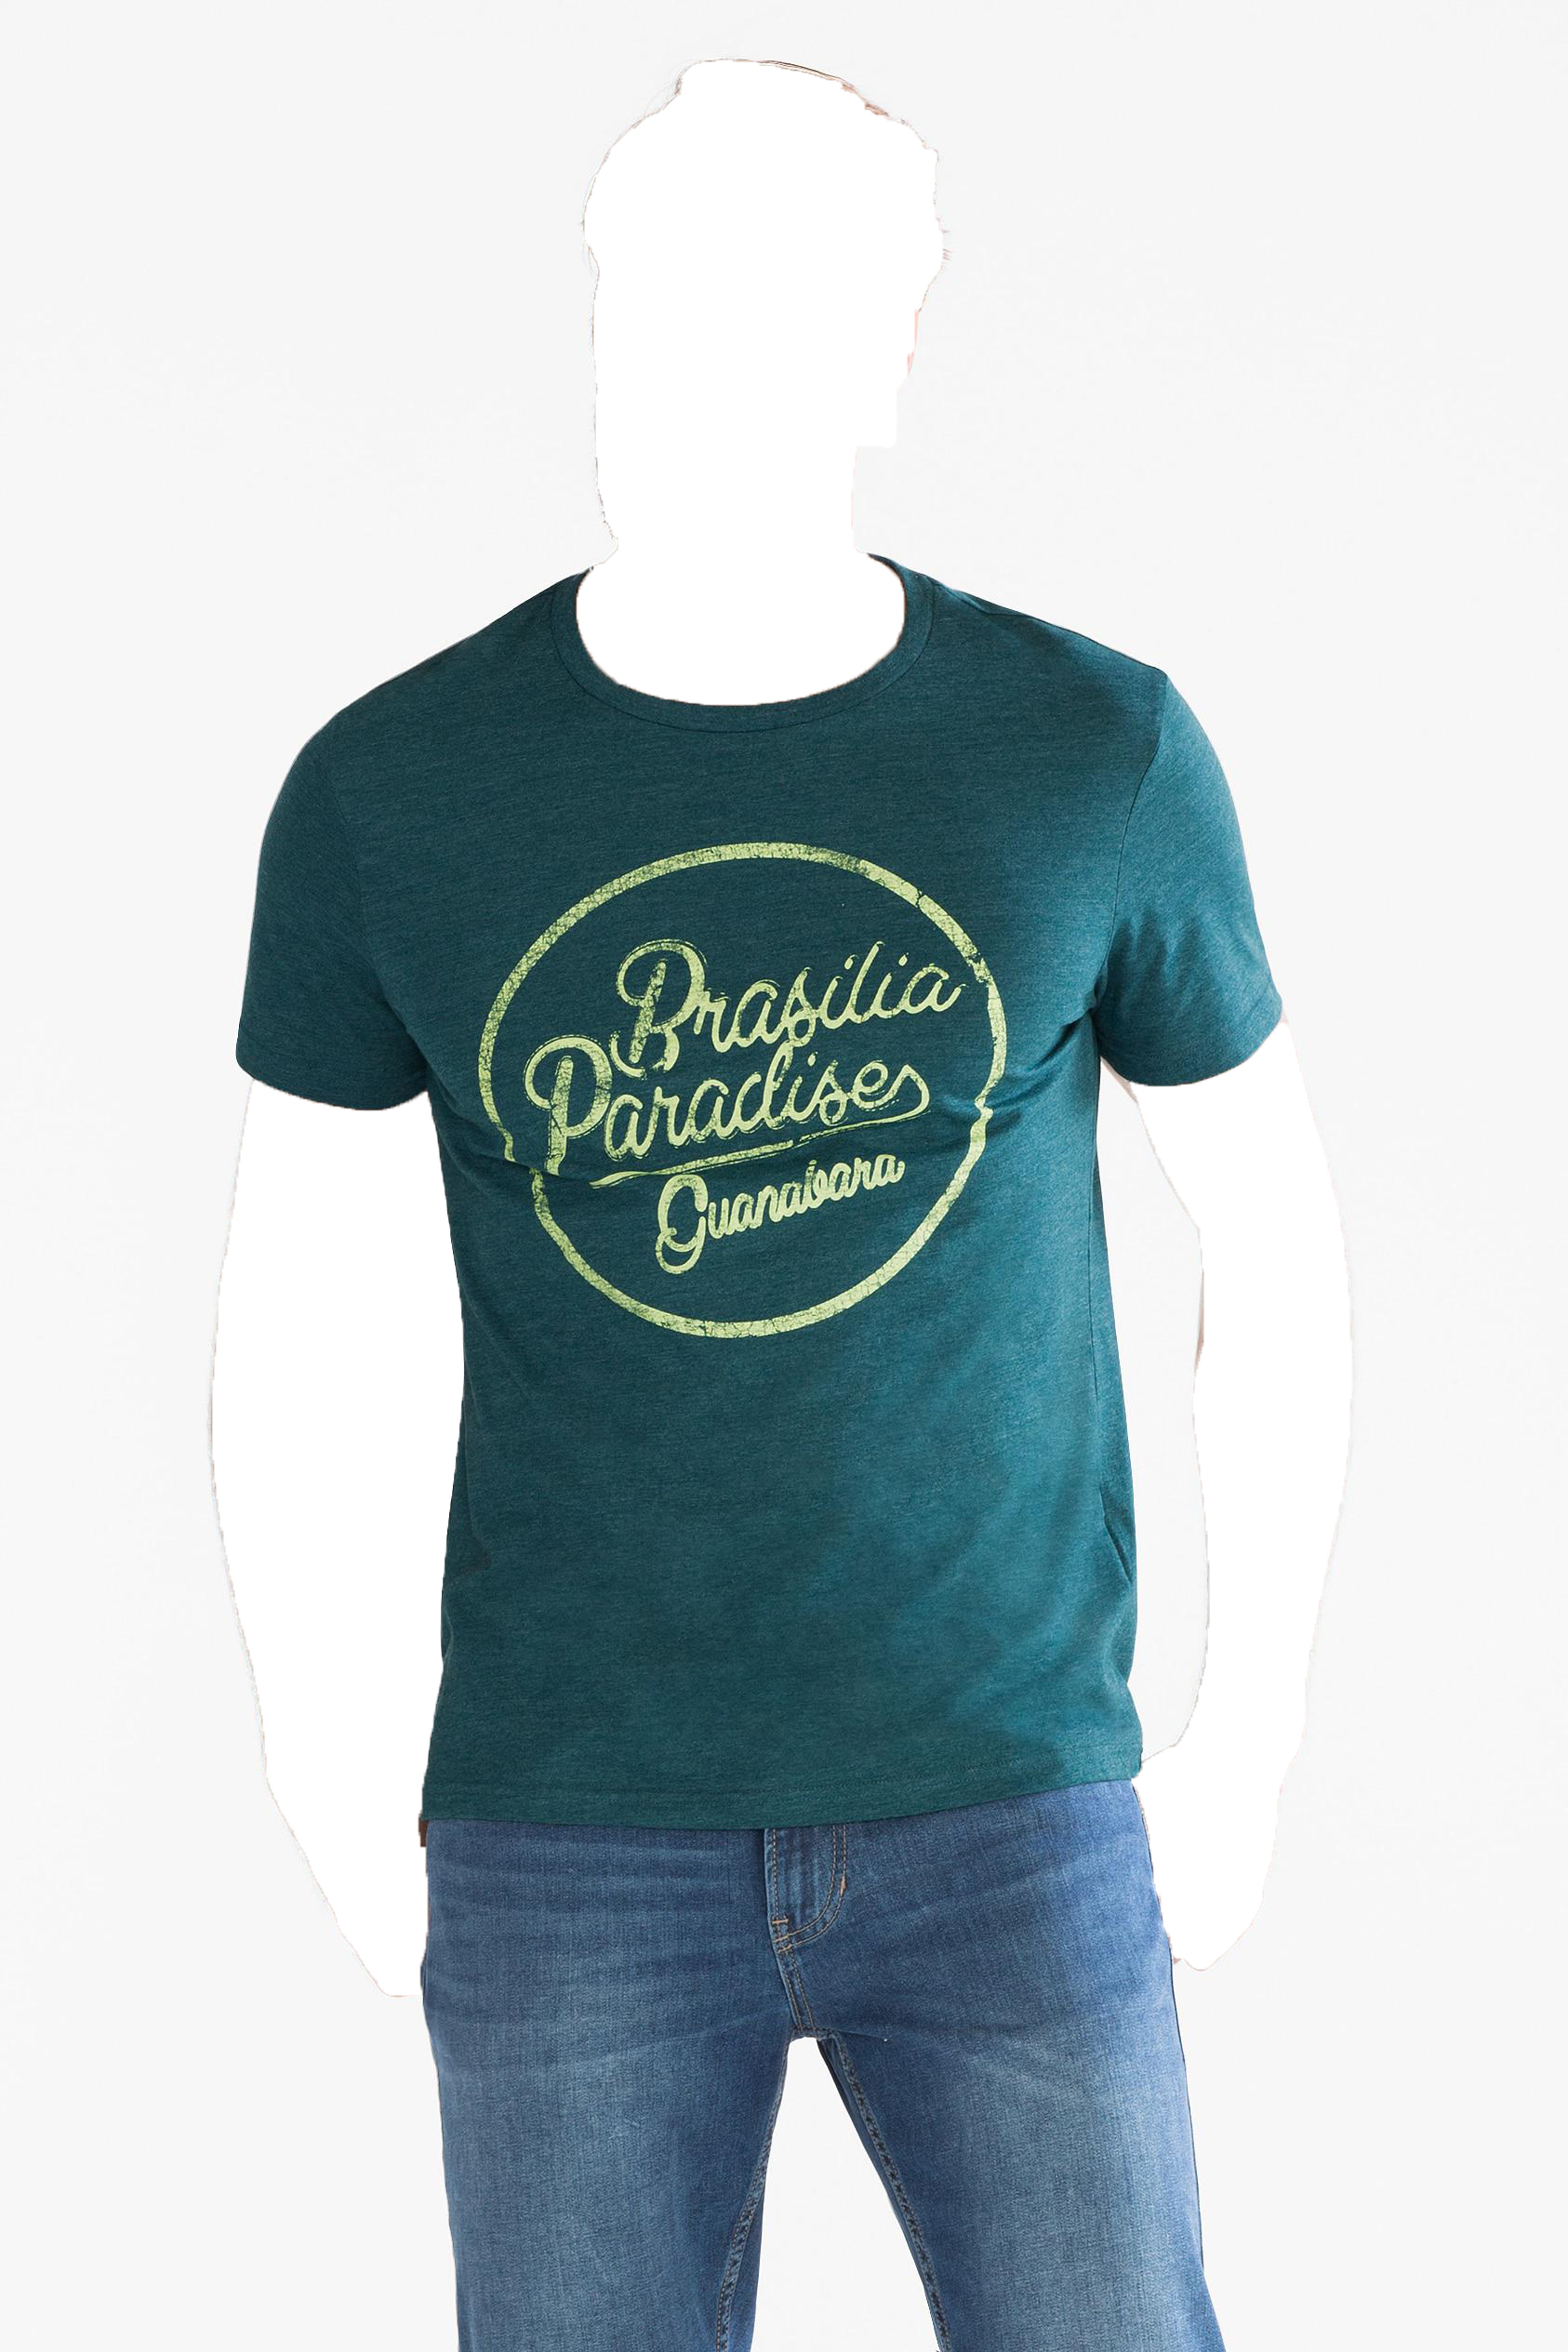teeshirt: (224, 579, 1304, 1827)
